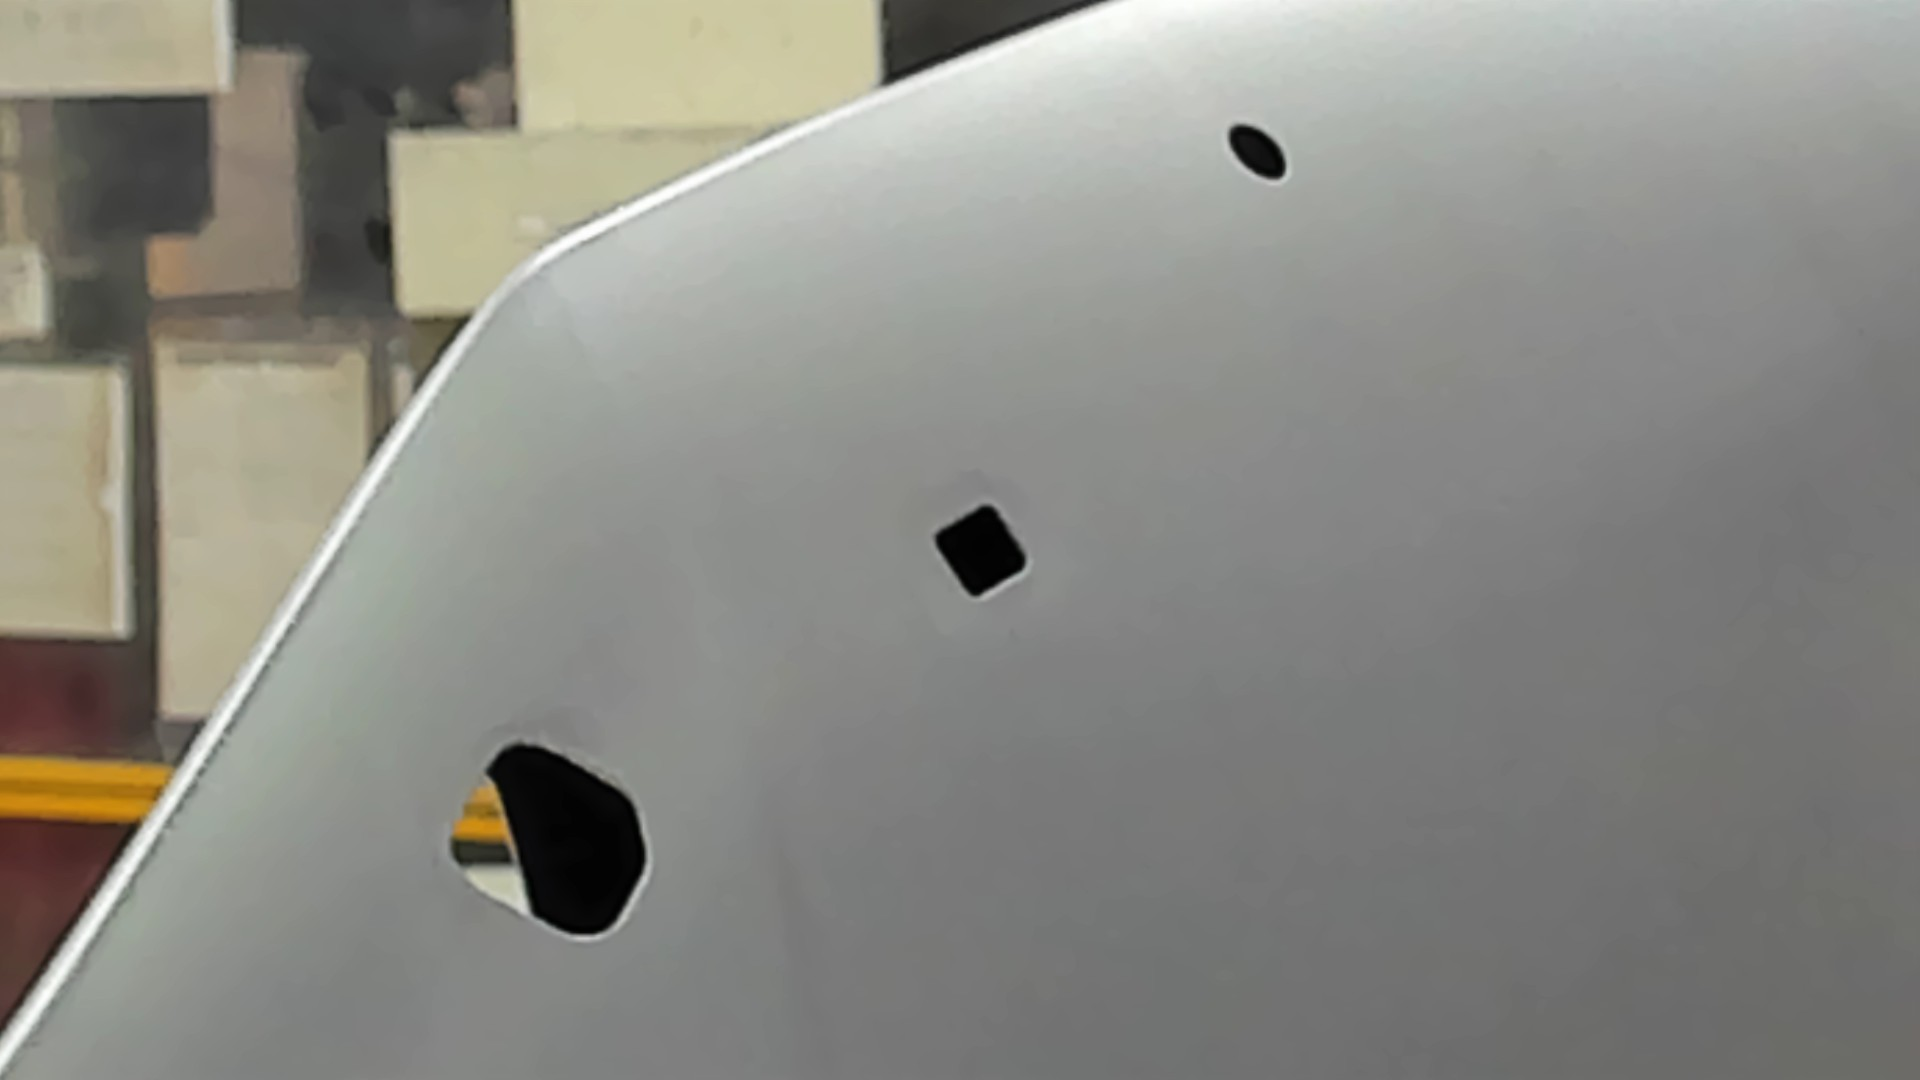chico: (1222, 115, 1296, 189)
grande: (440, 733, 659, 953)
mediano: (924, 495, 1040, 608)
